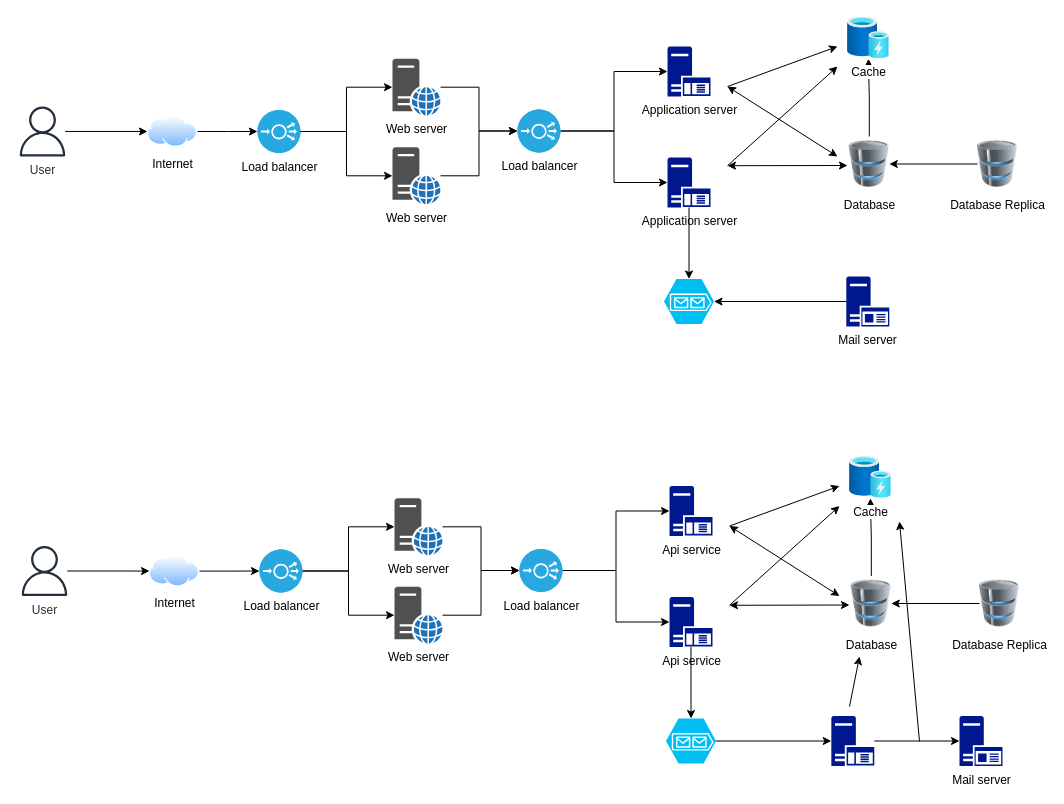
Image size: 1064x804. Some labels were removed from this diagram. Here are the shapes that lost their labels. From the top down, the centre of each, then its label:
At [689,301]: "Mail queue".
At [691,740]: "Bookings queue".
At [852,741]: "Bookings service".
